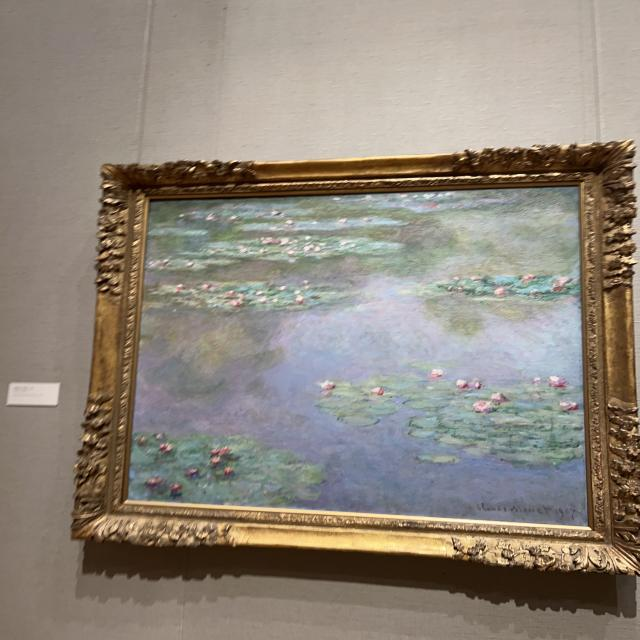lilies: (131, 189, 583, 521)
